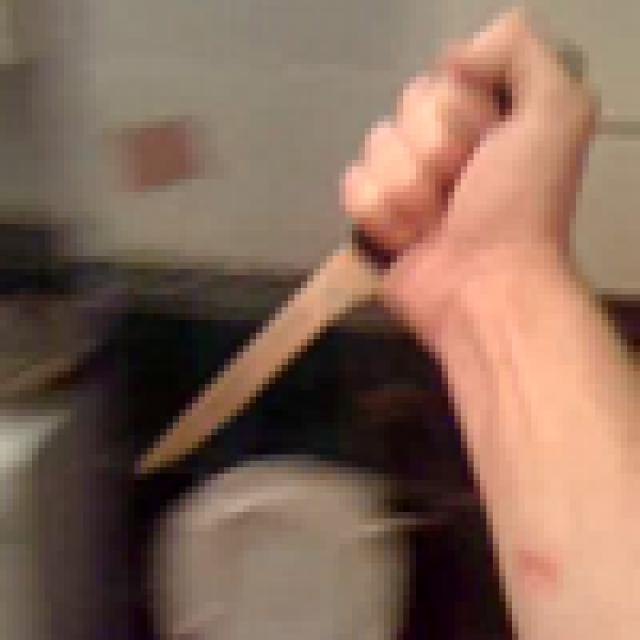knife: (128, 0, 563, 499)
